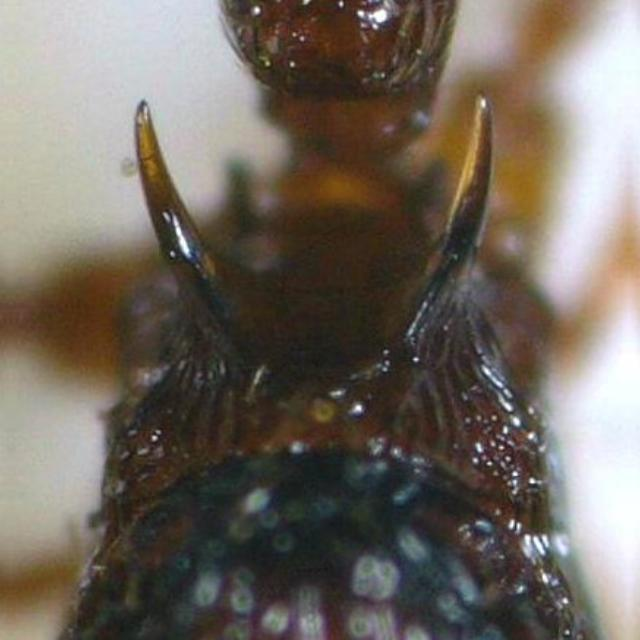Myrmica: (10, 0, 624, 640)
